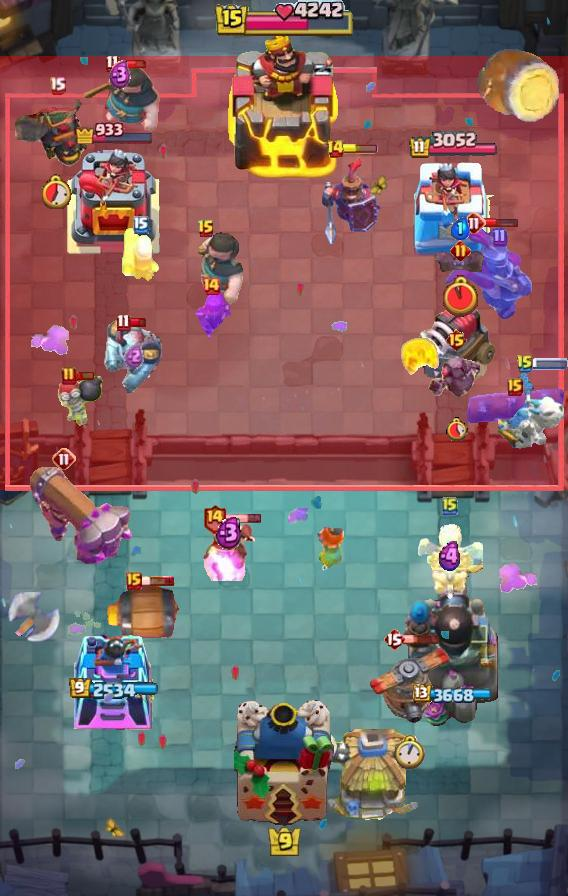archer-evolution: (14, 84, 100, 170)
barbarian-barrel: (431, 250, 489, 272)
battle-ram: (426, 353, 486, 401)
clock: (213, 0, 355, 40)
dark-prince: (360, 641, 458, 723)
dirt: (475, 47, 561, 125)
electro-spirit: (215, 515, 243, 549), (435, 541, 464, 572), (109, 60, 131, 90), (124, 343, 144, 369), (450, 216, 470, 239)
elixir: (442, 275, 477, 317), (42, 175, 72, 210), (395, 735, 425, 770), (445, 417, 468, 441)
elixir-golem-big: (319, 154, 383, 248)
elixir-golem-small: (103, 319, 165, 397)
emote: (225, 512, 262, 524), (404, 633, 441, 645), (532, 358, 568, 370), (139, 575, 175, 587), (485, 217, 520, 228), (342, 144, 378, 154), (117, 59, 149, 69), (129, 316, 148, 328), (75, 371, 95, 382)
evolution-symbol: (191, 290, 231, 342)
furnace: (27, 462, 133, 568)
golem: (410, 296, 498, 386)
hog-rider: (311, 522, 349, 574)
ice-golem: (53, 372, 105, 426)
king-tower: (226, 33, 342, 181), (234, 700, 334, 826)
mini-pekka: (498, 369, 568, 451), (417, 518, 483, 604)
minion: (464, 387, 566, 423)
prince: (322, 729, 424, 825)
queen-tower: (64, 146, 164, 256), (73, 623, 155, 731), (408, 158, 498, 256)
royal-giant: (0, 592, 60, 652)
royal-hog: (79, 63, 161, 135), (167, 231, 245, 305)
selected: (409, 131, 500, 160), (69, 678, 159, 701), (73, 119, 154, 144), (414, 684, 495, 705)
skeleton-king: (201, 517, 257, 581)
text: (202, 503, 227, 533), (462, 211, 486, 235), (52, 447, 76, 471), (445, 328, 468, 352), (383, 627, 405, 651), (449, 239, 470, 261), (201, 276, 221, 296), (326, 139, 345, 159), (197, 219, 215, 239), (516, 354, 534, 374), (61, 366, 77, 386), (442, 496, 458, 516), (50, 77, 67, 95), (133, 216, 149, 234), (507, 378, 523, 396), (126, 572, 142, 590), (105, 55, 119, 74), (117, 313, 131, 331)
the-log: (105, 586, 185, 646)
tombstone: (120, 225, 162, 283)
tower-bar: (402, 579, 504, 731)
valkyrie: (398, 336, 444, 384)
wall-breaker-evolution: (442, 227, 534, 321)
